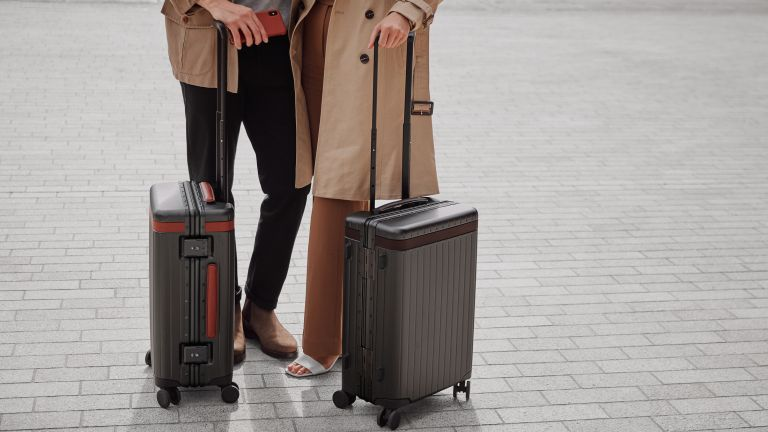luggage: (344, 117, 478, 419), (133, 167, 249, 415)
